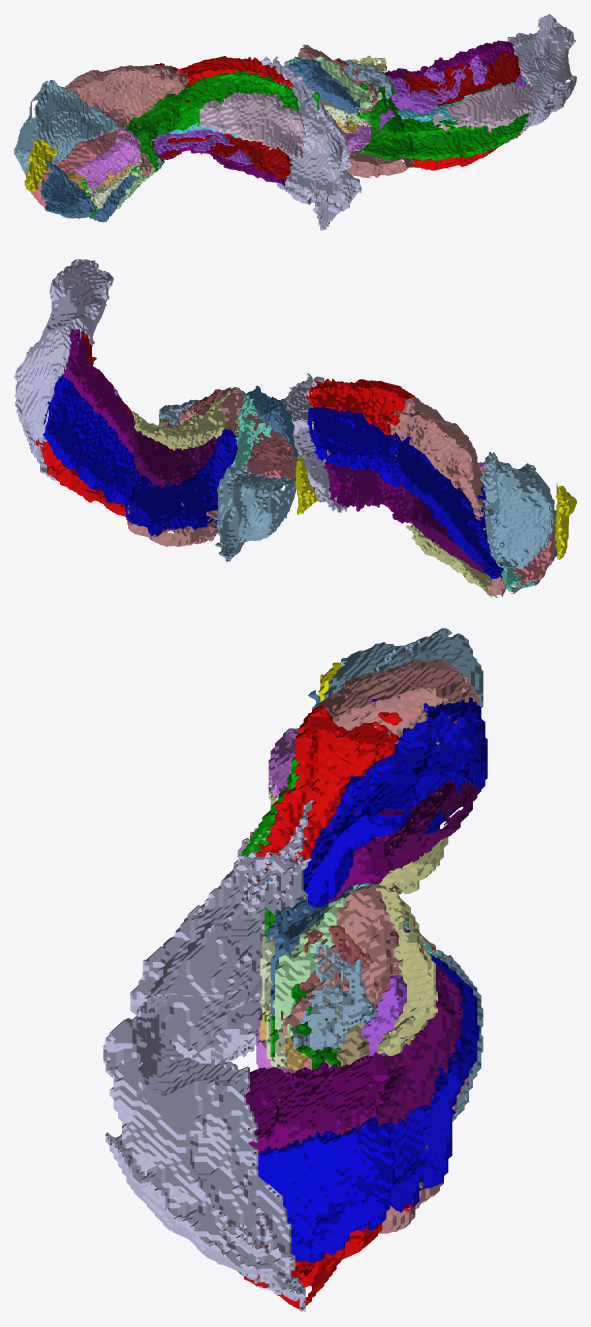
Rendered from hippoAmygLabels.glb.
3 renders of one model, top to bottom at view 1: azimuth 30°, elevation 25°; view 2: azimuth 150°, elevation 25°; view 3: azimuth 270°, elevation 25°, orthographic. The views are drawn at different scales.
Visible parts, largest first — view 1: lh - HP_tail, lh - CA1-head, lh - Lateral-nucleus, rh - HP_tail, lh - fimbria, rh - CA3-body, lh - CA3-body, rh - fimbria, lh - Corticoamygdaloid-transitio, rh - hippocampal_fissure, rh - molecular_layer_HP-body, rh - CA3-head (+21 smaller); view 2: rh - HP_tail, lh - Lateral-nucleus, rh - subiculum-body, rh - subiculum-head, lh - subiculum-head, rh - Lateral-nucleus, lh - CA1-head, lh - subiculum-body, lh - CA1-body, rh - presubiculum-body, rh - presubiculum-head, lh - presubiculum-body (+14 smaller); view 3: rh - HP_tail, lh - HP_tail, rh - subiculum-body, rh - presubiculum-body, lh - CA1-body, rh - subiculum-head, lh - subiculum-body, lh - CA1-head, lh - subiculum-head, rh - CA1-head, rh - presubiculum-head, rh - parasubiculum (+16 smaller).
Boxes of the visible parts, bbox=[...] form: lh - HP_tail: bbox=[260, 56, 361, 230]; lh - CA1-head: bbox=[64, 65, 188, 218]; lh - Lateral-nucleus: bbox=[14, 80, 117, 174]; rh - HP_tail: bbox=[497, 14, 576, 147]; lh - fimbria: bbox=[199, 92, 306, 158]; rh - CA3-body: bbox=[389, 113, 528, 160]; lh - CA3-body: bbox=[160, 70, 299, 130]; rh - fimbria: bbox=[432, 83, 537, 133]; lh - Corticoamygdaloid-transitio: bbox=[41, 160, 135, 222]; rh - hippocampal_fissure: bbox=[379, 54, 526, 129]; rh - molecular_layer_HP-body: bbox=[403, 51, 521, 156]; rh - CA3-head: bbox=[357, 77, 413, 160]; rh - HP_tail: bbox=[14, 259, 113, 480]; lh - Lateral-nucleus: bbox=[480, 452, 554, 569]; rh - subiculum-body: bbox=[42, 373, 140, 506]; rh - subiculum-head: bbox=[124, 429, 237, 536]; lh - subiculum-head: bbox=[389, 414, 503, 578]; rh - Lateral-nucleus: bbox=[215, 463, 296, 562]; lh - CA1-head: bbox=[387, 395, 506, 597]; lh - subiculum-body: bbox=[307, 406, 399, 488]; lh - CA1-body: bbox=[304, 378, 415, 441]; rh - presubiculum-body: bbox=[63, 328, 140, 456]; rh - presubiculum-head: bbox=[129, 427, 219, 489]; lh - presubiculum-body: bbox=[323, 462, 410, 523]; rh - HP_tail: bbox=[103, 1001, 305, 1311]; lh - HP_tail: bbox=[130, 798, 313, 1065]; rh - subiculum-body: bbox=[254, 1117, 396, 1263]; rh - presubiculum-body: bbox=[246, 1052, 390, 1153]; lh - CA1-body: bbox=[256, 704, 402, 861]; rh - subiculum-head: bbox=[383, 930, 479, 1212]; lh - subiculum-body: bbox=[303, 744, 417, 907]; lh - CA1-head: bbox=[308, 659, 479, 890]; lh - subiculum-head: bbox=[372, 697, 487, 834]; rh - CA1-head: bbox=[281, 884, 468, 1233]; rh - presubiculum-head: bbox=[372, 962, 462, 1126]; rh - parasubiculum: bbox=[376, 888, 437, 1055].
Bounding box in the file's own units: 93.67 × 29.67 × 31.
